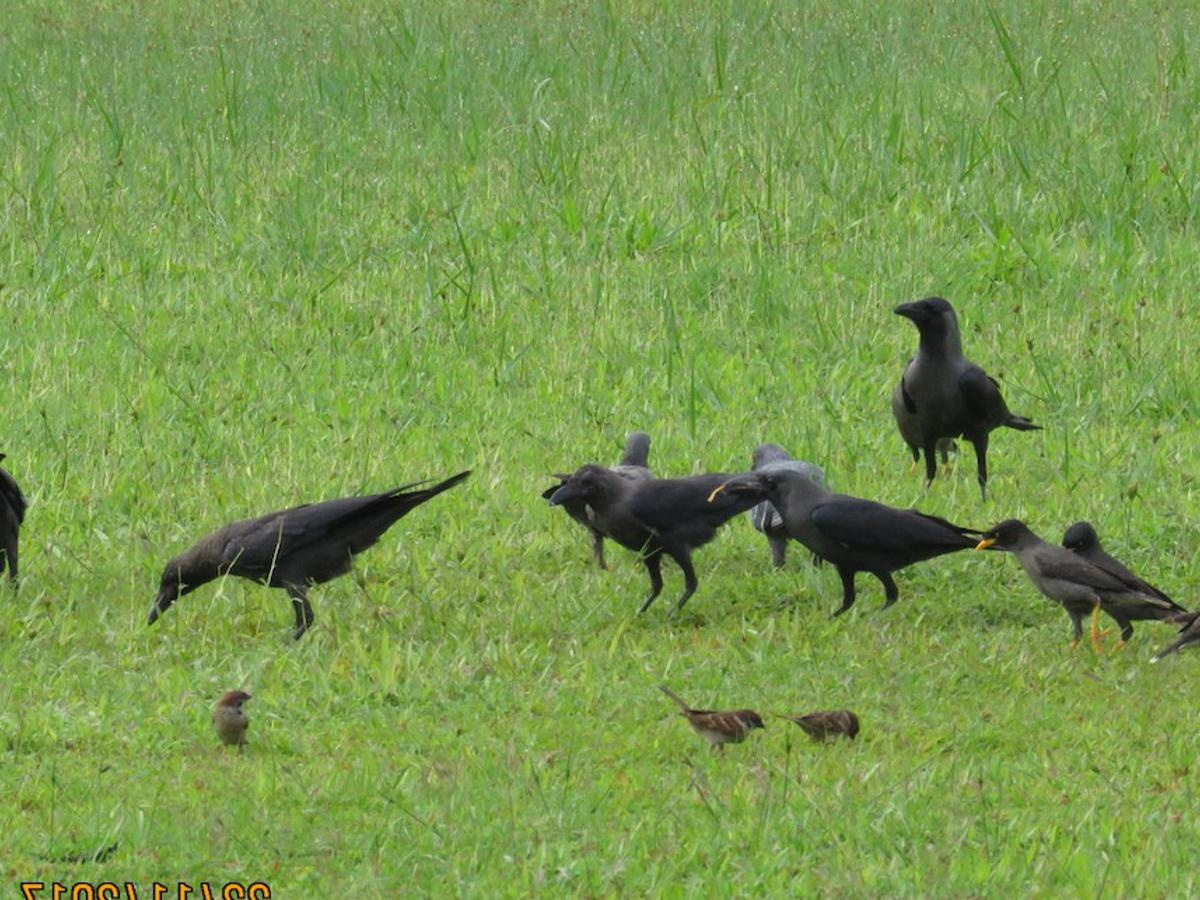crow: (139, 471, 472, 655), (718, 466, 981, 612), (889, 294, 1034, 485), (555, 460, 745, 598), (978, 513, 1129, 659)
